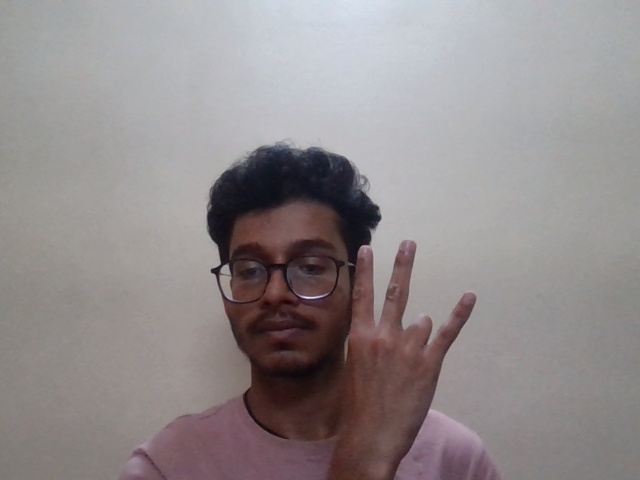why: (341, 236, 502, 412)
